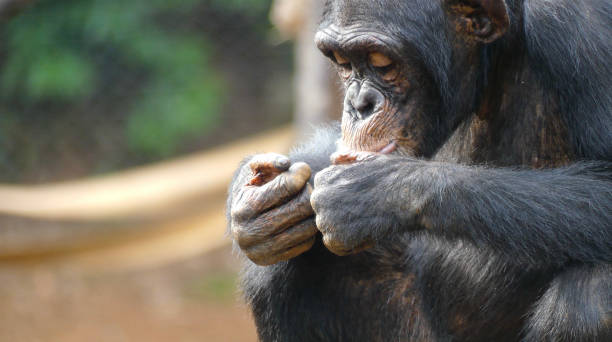chimpanzee: (306, 7, 509, 166)
